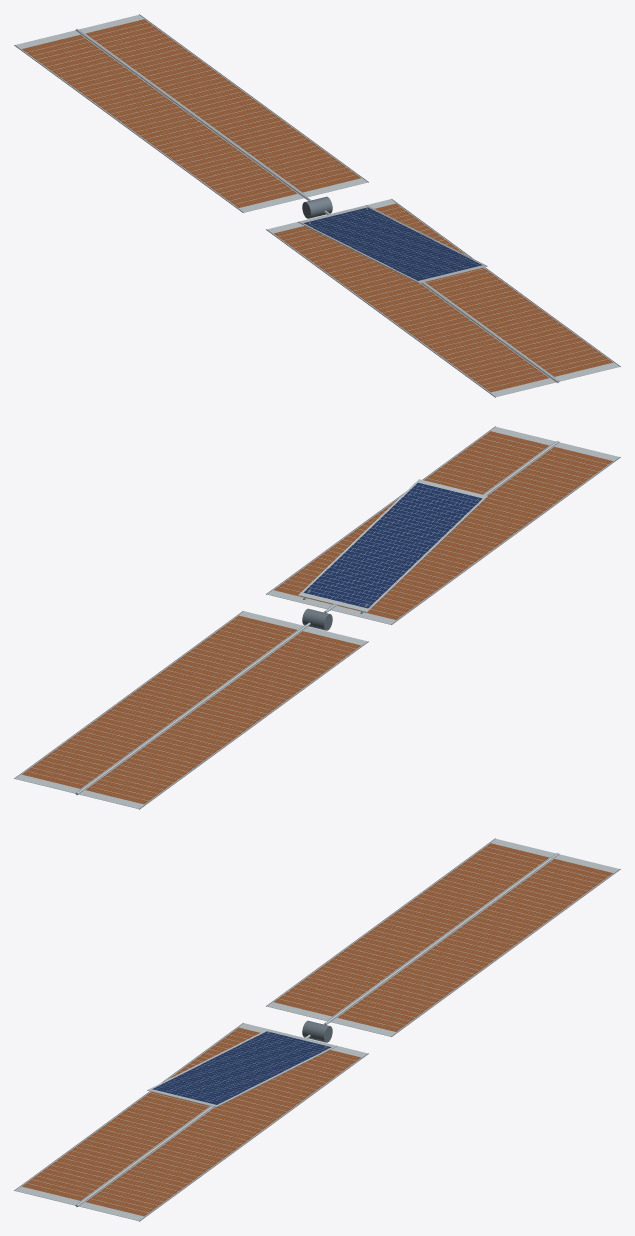
Rendered from iss_arrays.p4_alpha_joint.glb.
The picture shows the model from 3 angles, top to bottom: view 1: azimuth 30°, elevation 25°; view 2: azimuth 150°, elevation 25°; view 3: azimuth 330°, elevation 25°; orthographic projection.
Parts seen in each view (by area): view 1: iss_arrays.p4_alpha_joint.wing_forward.blanket_l.cells.mesh_ (×2), iss_arrays.p4_alpha_joint.wing_aft.blanket_r.cells.mesh_Copp, iss_arrays.p4_alpha_joint.wing_aft.blanket_l.cells.mesh_Copp, iss_arrays.p4_alpha_joint.wing_forward.blanket_r.cells.mesh_ (×2), iss_arrays.p4_alpha_joint.wing_forward.irosa.cells.mesh_Indi, iss_arrays.p4_alpha_joint.wing_aft.blanket_r.cells.mesh_Sati, iss_arrays.p4_alpha_joint.wing_aft.blanket_l.cells.mesh_Sati, iss_arrays.p4_alpha_joint.wing_forward.irosa.cells.mesh_Sati, iss_arrays.p4_alpha_joint.wing_aft.mesh_Satin_aluminum, iss_arrays.p4_alpha_joint.wing_aft.blanket_r.mesh_Machined_s; view 2: iss_arrays.p4_alpha_joint.wing_forward.blanket_l.cells.mesh_ (×2), iss_arrays.p4_alpha_joint.wing_aft.blanket_l.cells.mesh_Copp, iss_arrays.p4_alpha_joint.wing_aft.blanket_r.cells.mesh_Copp, iss_arrays.p4_alpha_joint.wing_forward.irosa.cells.mesh_Indi, iss_arrays.p4_alpha_joint.wing_forward.blanket_r.cells.mesh_ (×2), iss_arrays.p4_alpha_joint.wing_aft.blanket_r.cells.mesh_Sati, iss_arrays.p4_alpha_joint.wing_aft.blanket_l.cells.mesh_Sati, iss_arrays.p4_alpha_joint.wing_forward.irosa.cells.mesh_Sati, iss_arrays.p4_alpha_joint.wing_aft.mesh_Satin_aluminum, iss_arrays.p4_alpha_joint.wing_aft.blanket_r.mesh_Machined_s; view 3: iss_arrays.p4_alpha_joint.wing_forward.blanket_r.cells.mesh_ (×2), iss_arrays.p4_alpha_joint.wing_aft.blanket_l.cells.mesh_Copp, iss_arrays.p4_alpha_joint.wing_aft.blanket_r.cells.mesh_Copp, iss_arrays.p4_alpha_joint.wing_forward.blanket_l.cells.mesh_ (×2), iss_arrays.p4_alpha_joint.wing_forward.irosa.cells.mesh_Indi, iss_arrays.p4_alpha_joint.wing_aft.blanket_l.cells.mesh_Sati, iss_arrays.p4_alpha_joint.wing_aft.blanket_r.cells.mesh_Sati, iss_arrays.p4_alpha_joint.wing_forward.irosa.cells.mesh_Sati, iss_arrays.p4_alpha_joint.wing_aft.mesh_Satin_aluminum, iss_arrays.p4_alpha_joint.wing_aft.blanket_l.mesh_Machined_s.
Part boxes in pixels (left/top/right/bottom): iss_arrays.p4_alpha_joint.wing_forward.blanket_l.cells.mesh_ (×2): left=266, top=214, right=556, bottom=396; iss_arrays.p4_alpha_joint.wing_aft.blanket_r.cells.mesh_Copp: left=22, top=35, right=297, bottom=207; iss_arrays.p4_alpha_joint.wing_aft.blanket_l.cells.mesh_Copp: left=85, top=19, right=360, bottom=192; iss_arrays.p4_alpha_joint.wing_forward.blanket_r.cells.mesh_ (×2): left=331, top=199, right=619, bottom=381; iss_arrays.p4_alpha_joint.wing_forward.irosa.cells.mesh_Indi: left=303, top=207, right=482, bottom=280; iss_arrays.p4_alpha_joint.wing_aft.blanket_r.cells.mesh_Sati: left=14, top=30, right=304, bottom=212; iss_arrays.p4_alpha_joint.wing_aft.blanket_l.cells.mesh_Sati: left=79, top=15, right=368, bottom=196; iss_arrays.p4_alpha_joint.wing_forward.irosa.cells.mesh_Sati: left=299, top=205, right=487, bottom=283; iss_arrays.p4_alpha_joint.wing_aft.mesh_Satin_aluminum: left=76, top=29, right=310, bottom=200; iss_arrays.p4_alpha_joint.wing_aft.blanket_r.mesh_Machined_s: left=14, top=30, right=304, bottom=212; iss_arrays.p4_alpha_joint.wing_forward.blanket_l.cells.mesh_ (×2): left=330, top=442, right=620, bottom=624; iss_arrays.p4_alpha_joint.wing_aft.blanket_l.cells.mesh_Copp: left=22, top=615, right=296, bottom=788; iss_arrays.p4_alpha_joint.wing_aft.blanket_r.cells.mesh_Copp: left=86, top=631, right=360, bottom=804; iss_arrays.p4_alpha_joint.wing_forward.irosa.cells.mesh_Indi: left=303, top=482, right=482, bottom=608; iss_arrays.p4_alpha_joint.wing_forward.blanket_r.cells.mesh_ (×2): left=266, top=427, right=555, bottom=608; iss_arrays.p4_alpha_joint.wing_aft.blanket_r.cells.mesh_Sati: left=78, top=626, right=368, bottom=808; iss_arrays.p4_alpha_joint.wing_aft.blanket_l.cells.mesh_Sati: left=15, top=611, right=303, bottom=793; iss_arrays.p4_alpha_joint.wing_forward.irosa.cells.mesh_Sati: left=299, top=479, right=486, bottom=611; iss_arrays.p4_alpha_joint.wing_aft.mesh_Satin_aluminum: left=76, top=622, right=310, bottom=794; iss_arrays.p4_alpha_joint.wing_aft.blanket_r.mesh_Machined_s: left=78, top=626, right=368, bottom=809; iss_arrays.p4_alpha_joint.wing_forward.blanket_r.cells.mesh_ (×2): left=78, top=1038, right=368, bottom=1220; iss_arrays.p4_alpha_joint.wing_aft.blanket_l.cells.mesh_Copp: left=337, top=859, right=612, bottom=1031; iss_arrays.p4_alpha_joint.wing_aft.blanket_r.cells.mesh_Copp: left=274, top=843, right=549, bottom=1016; iss_arrays.p4_alpha_joint.wing_forward.blanket_l.cells.mesh_ (×2): left=15, top=1023, right=303, bottom=1205; iss_arrays.p4_alpha_joint.wing_forward.irosa.cells.mesh_Indi: left=152, top=1031, right=331, bottom=1104; iss_arrays.p4_alpha_joint.wing_aft.blanket_l.cells.mesh_Sati: left=330, top=854, right=620, bottom=1036; iss_arrays.p4_alpha_joint.wing_aft.blanket_r.cells.mesh_Sati: left=266, top=839, right=555, bottom=1020; iss_arrays.p4_alpha_joint.wing_forward.irosa.cells.mesh_Sati: left=147, top=1029, right=335, bottom=1107; iss_arrays.p4_alpha_joint.wing_aft.mesh_Satin_aluminum: left=324, top=853, right=558, bottom=1024; iss_arrays.p4_alpha_joint.wing_aft.blanket_l.mesh_Machined_s: left=330, top=854, right=620, bottom=1036.
Size of the model in its own units: 10.98 by 3.4 by 72.66.
